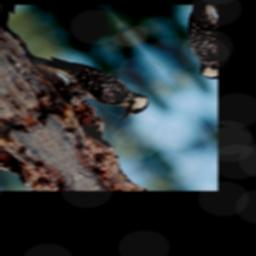Woodpecker: (18, 22, 165, 137)
